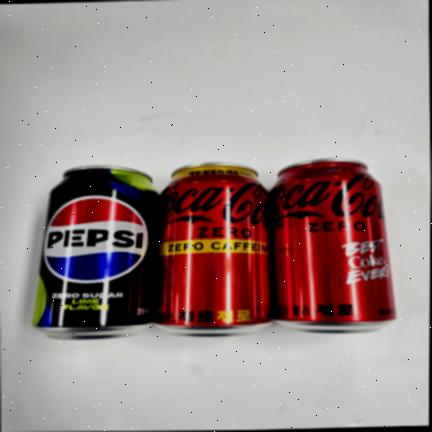can_coke_decaf: (156, 162, 272, 335)
can_coke_zero: (268, 158, 395, 332)
can_pepsi_zero: (32, 165, 159, 338)
